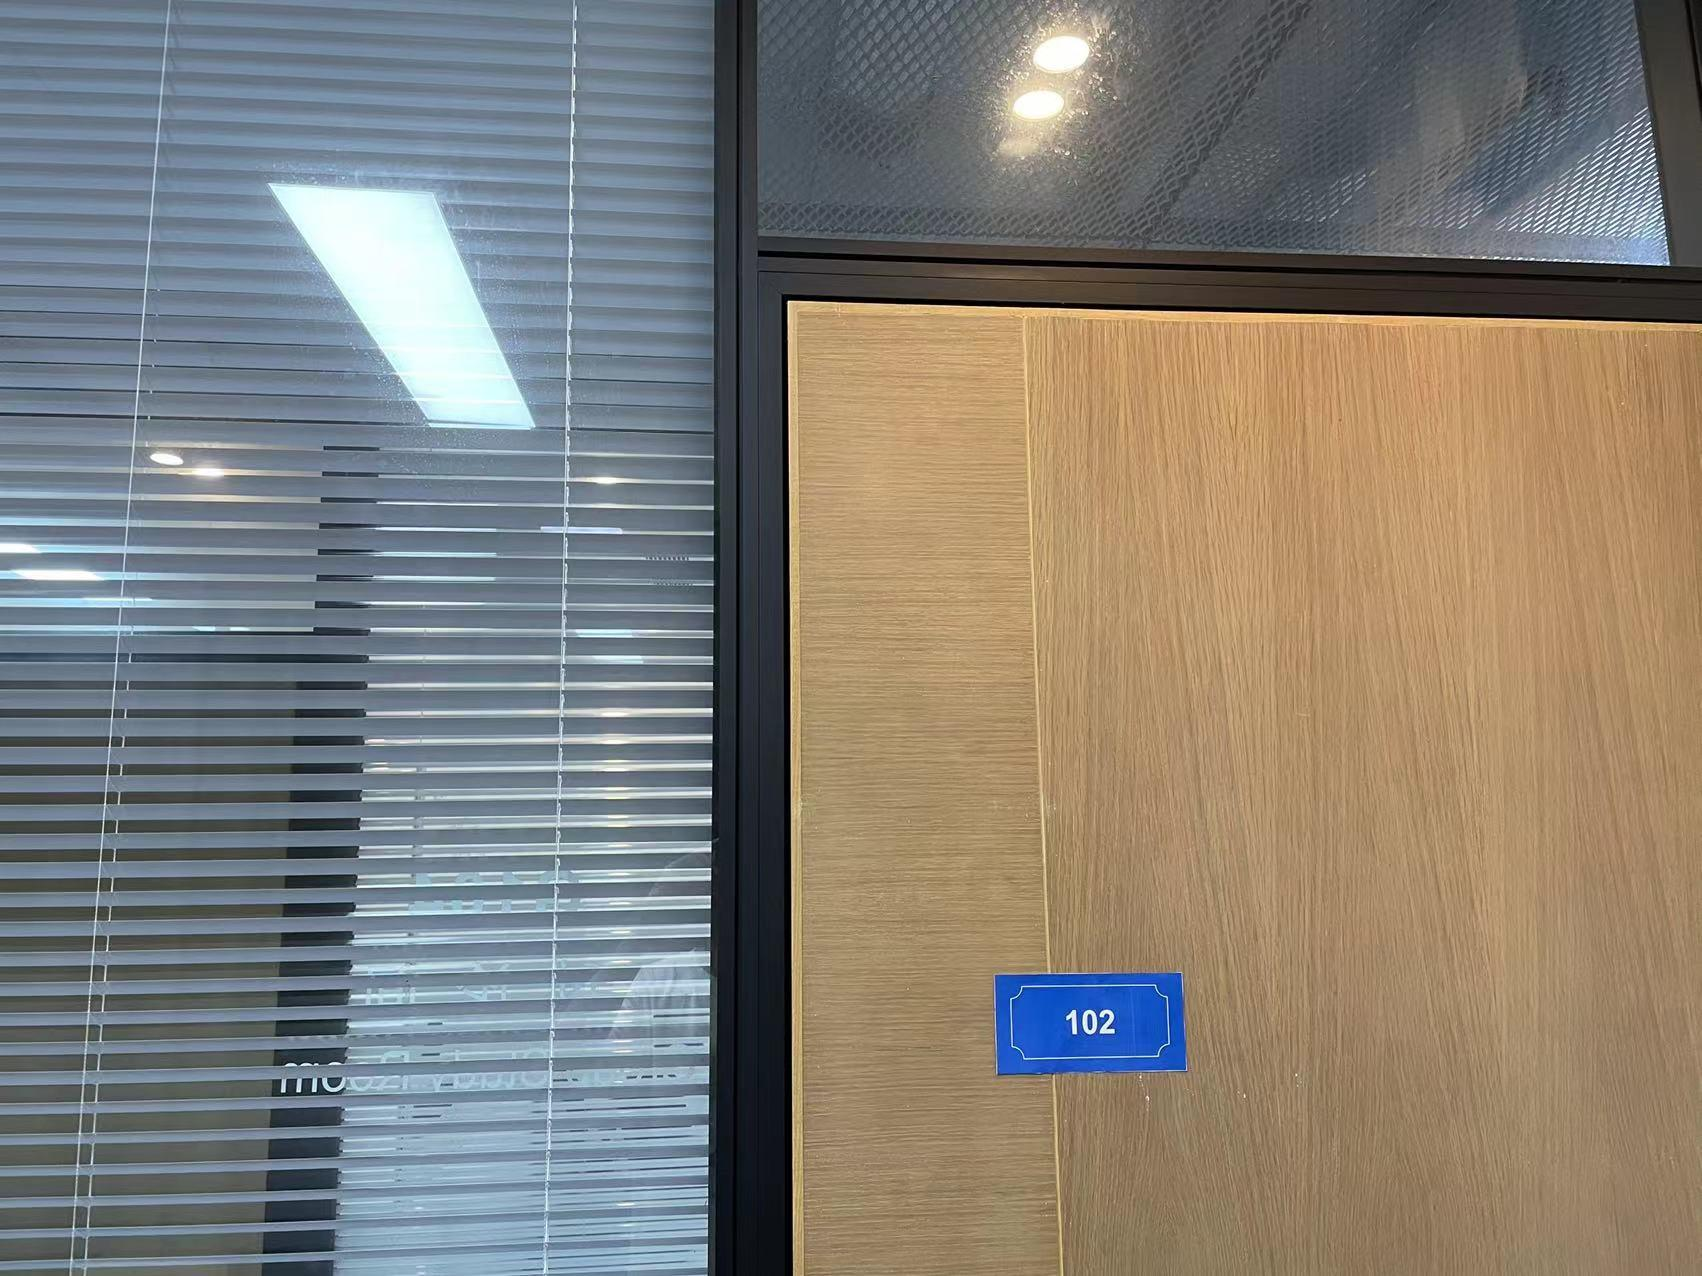Card: (986, 956, 1200, 1088)
